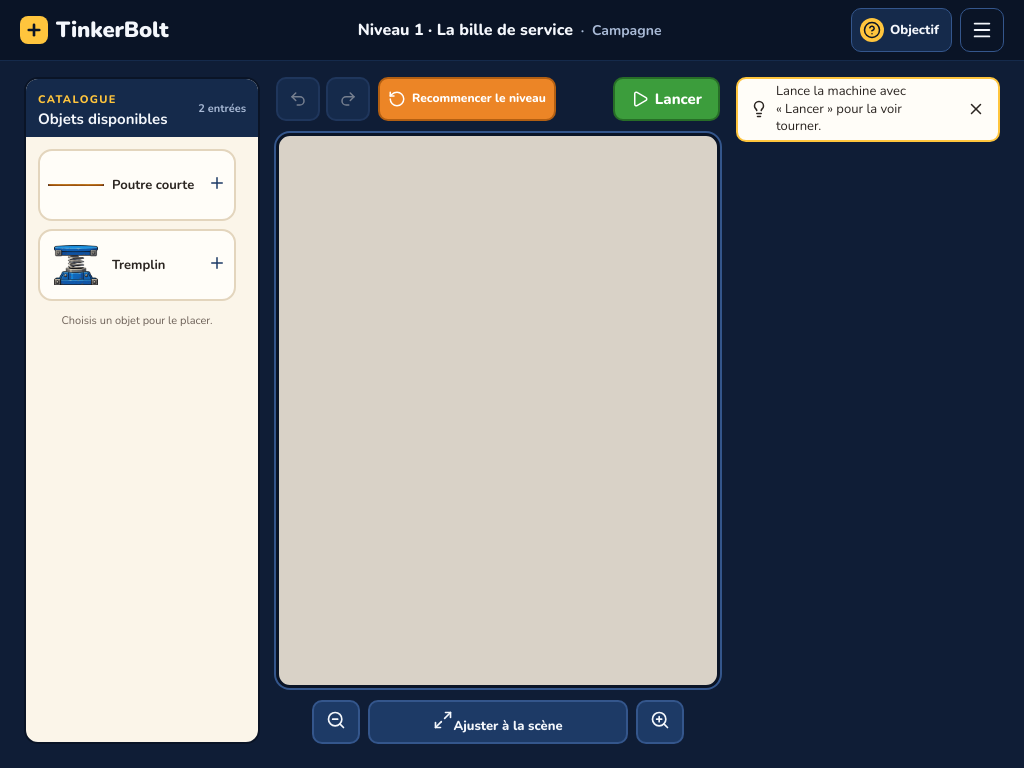
Scenario: coque TinkerBolt › navigue vers une page de réglages dédiée depuis le menu (ADR 0008)
Click the button named "Ouvrir le menu".
click(982, 30)  # box [960, 8, 1004, 52]
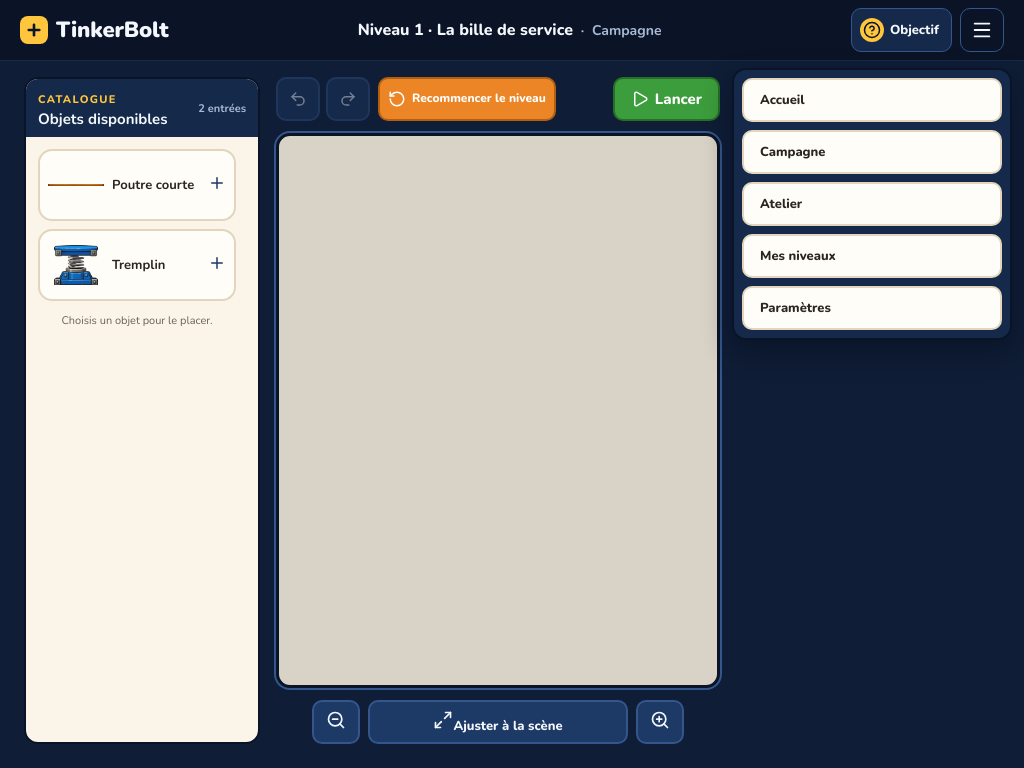
Click the button "Paramètres".
click(795, 308)  # box [742, 286, 1002, 330]
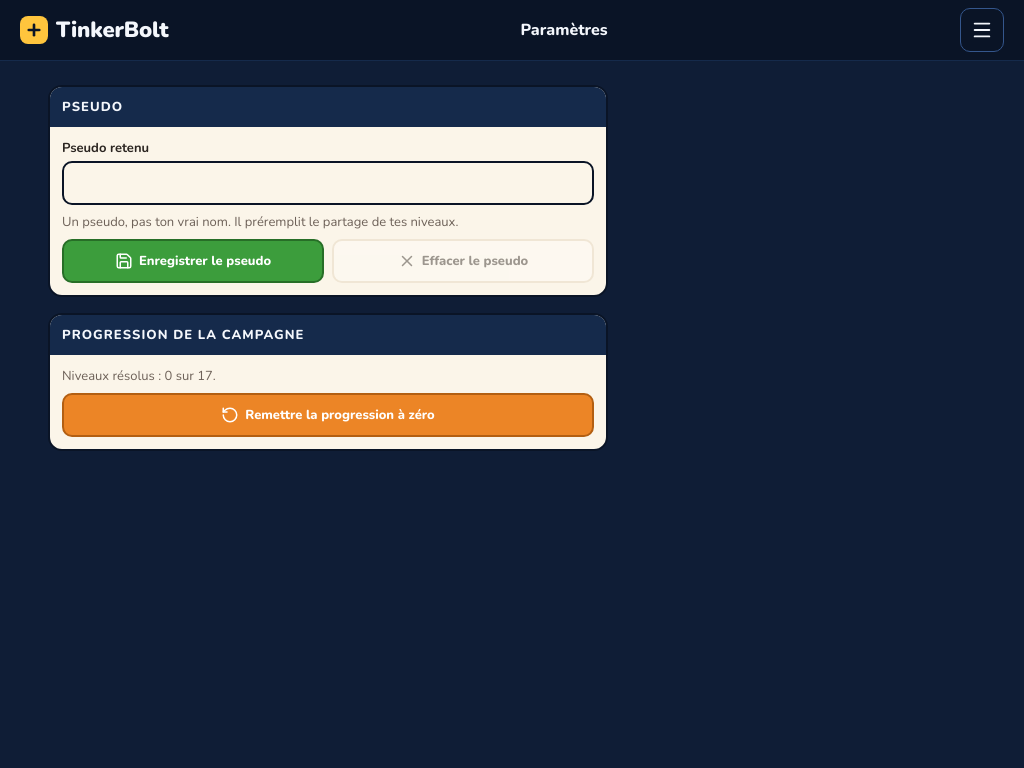
Now the element "Pseudo" is shown, box [48, 85, 608, 297]
Now the element "Progression de la campagne" is shown, box [48, 313, 608, 451]
